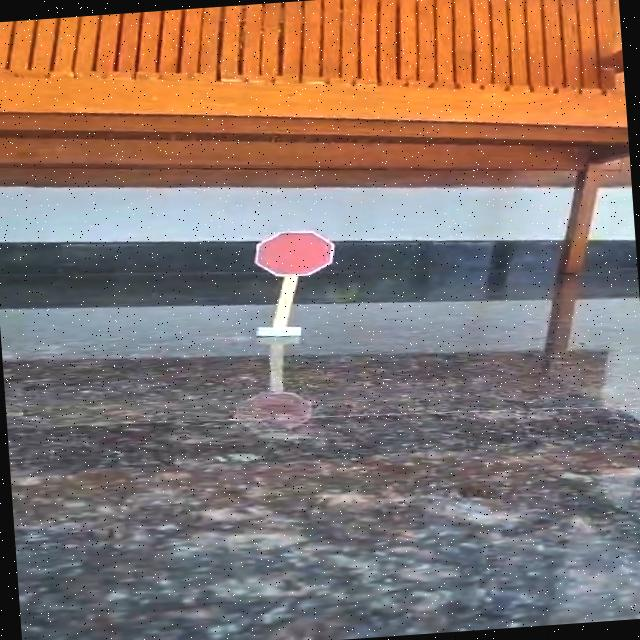Stop: (240, 222, 346, 290)
